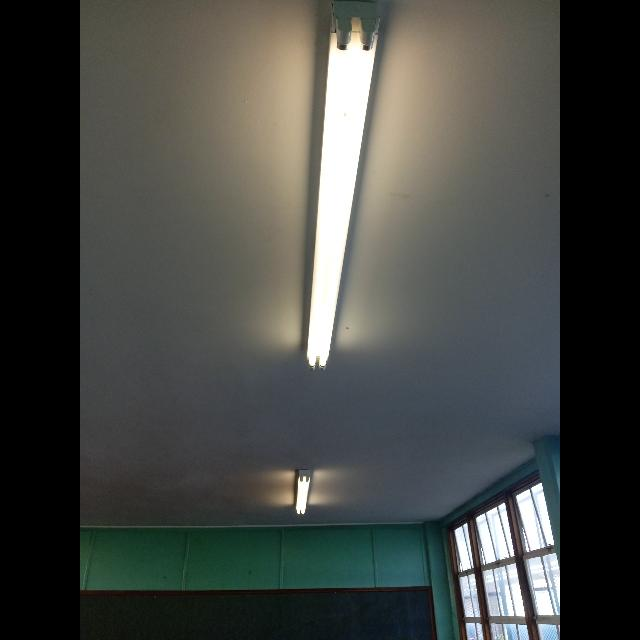Straight-Tube-Fluorescent-Lamp: (300, 1, 388, 373), (288, 466, 318, 526)
